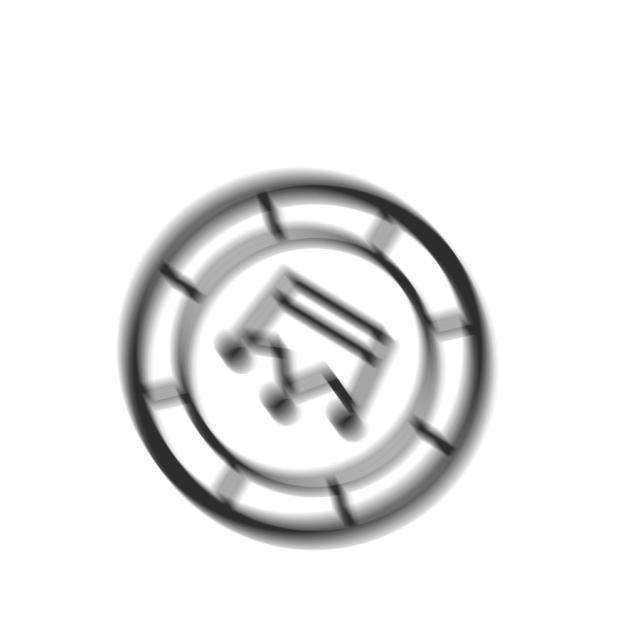coin: (113, 163, 504, 559)
